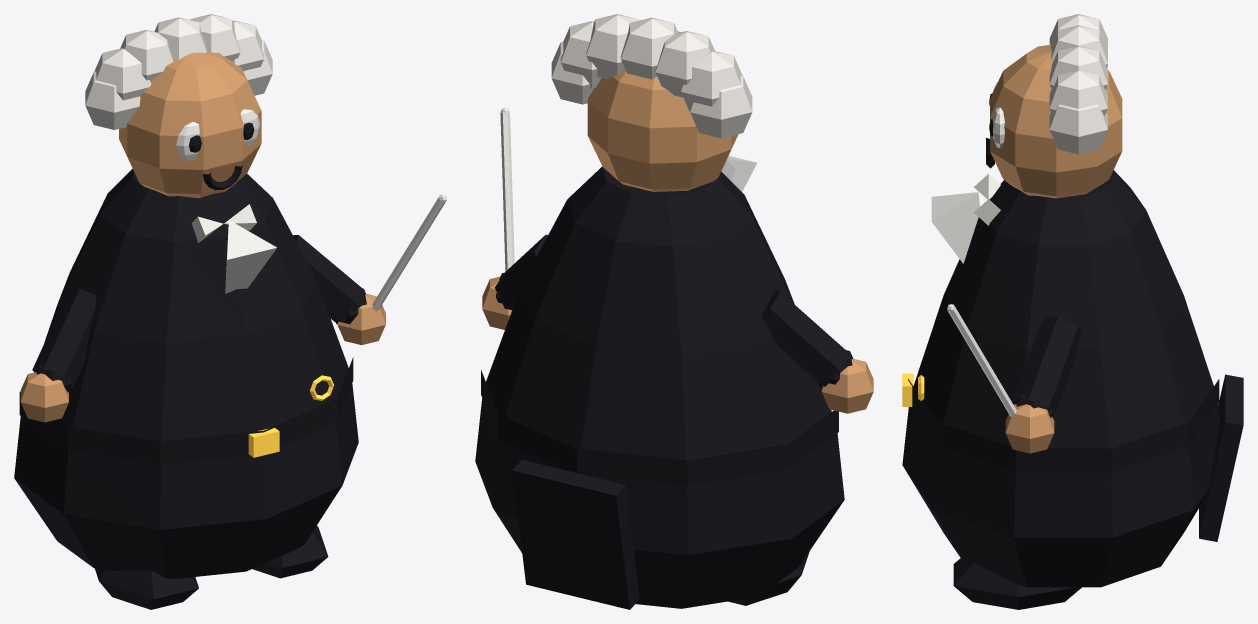
The model's file is npc_ernesto.glb.
3 views of the same model, side by side, from view 1: azimuth 30°, elevation 25°; view 2: azimuth 150°, elevation 25°; view 3: azimuth 270°, elevation 25° (orthographic). The views are drawn at different scales.
Visible parts, largest first — view 1: body_tailcoat, head_skin_arena, head_hair_white, body_black, arms_tailcoat, legs_black, arms_skin_arena, body_white, props_baton, body_gold, face_white, face_black; view 2: body_tailcoat, head_hair_white, head_skin_arena, body_black, arms_tailcoat, arms_skin_arena, props_baton, legs_black, body_white; view 3: body_tailcoat, head_skin_arena, head_hair_white, body_black, arms_tailcoat, legs_black, body_white, arms_skin_arena, props_baton, body_gold.
Boxes of the visible parts, x1,y1,x2,y2 form: body_tailcoat: [14, 168, 358, 578]; head_skin_arena: [119, 51, 261, 198]; head_hair_white: [85, 14, 272, 129]; body_black: [19, 357, 353, 464]; arms_tailcoat: [32, 235, 366, 392]; legs_black: [95, 525, 328, 609]; arms_skin_arena: [20, 293, 385, 422]; body_white: [191, 204, 276, 293]; props_baton: [372, 194, 446, 311]; body_gold: [248, 375, 334, 457]; face_white: [176, 109, 259, 160]; face_black: [189, 122, 254, 190]; body_tailcoat: [475, 166, 844, 609]; head_hair_white: [551, 14, 752, 138]; head_skin_arena: [587, 31, 738, 191]; body_black: [481, 370, 838, 485]; arms_tailcoat: [494, 234, 853, 388]; arms_skin_arena: [482, 276, 873, 413]; props_baton: [500, 108, 514, 271]; legs_black: [728, 551, 809, 605]; body_white: [721, 156, 756, 191]; body_tailcoat: [902, 170, 1243, 587]; head_skin_arena: [990, 44, 1122, 198]; head_hair_white: [1049, 14, 1107, 154]; body_black: [908, 379, 1219, 472]; arms_tailcoat: [1013, 317, 1081, 417]; legs_black: [953, 558, 1081, 609]; body_white: [931, 173, 1000, 263]; arms_skin_arena: [1005, 404, 1054, 453]; props_baton: [947, 304, 1016, 416]; body_gold: [902, 373, 924, 406].
Bounding box in the file's own units: 1.2 × 1.6 × 0.9093.
